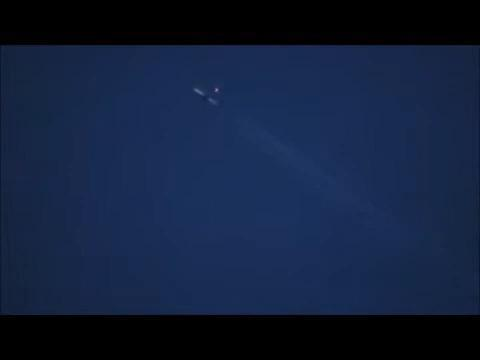Plane: (178, 79, 241, 114)
